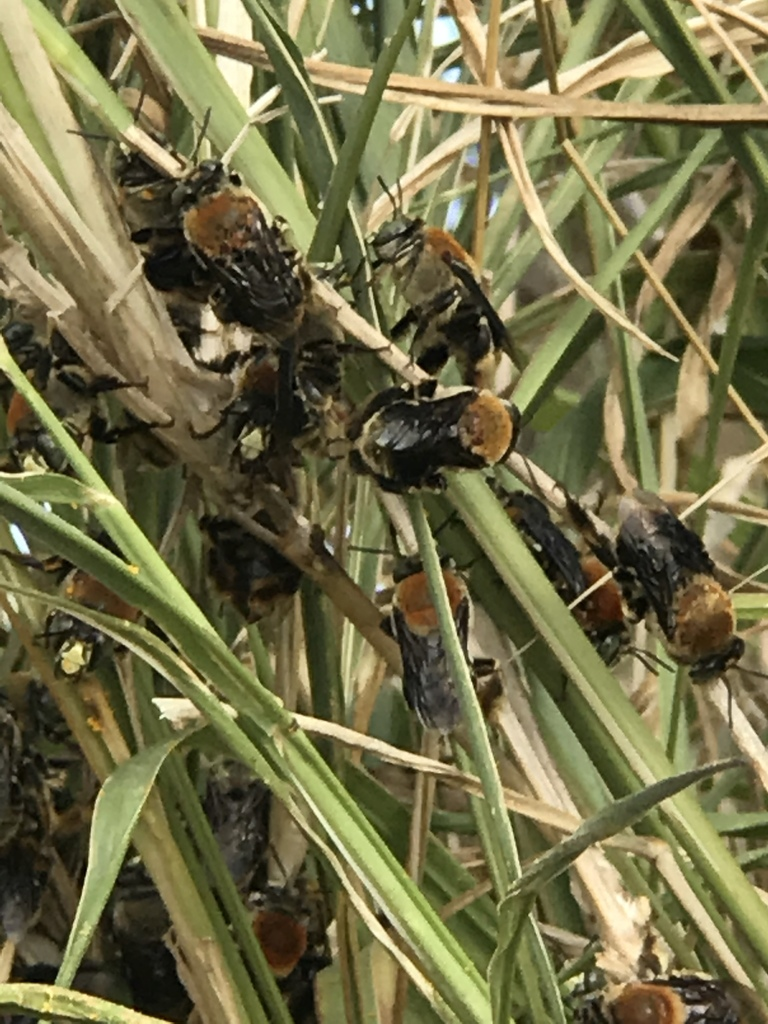not_bumblebee: (552, 469, 768, 731), (128, 107, 312, 338), (358, 176, 530, 386), (343, 508, 478, 733), (343, 379, 521, 491)
